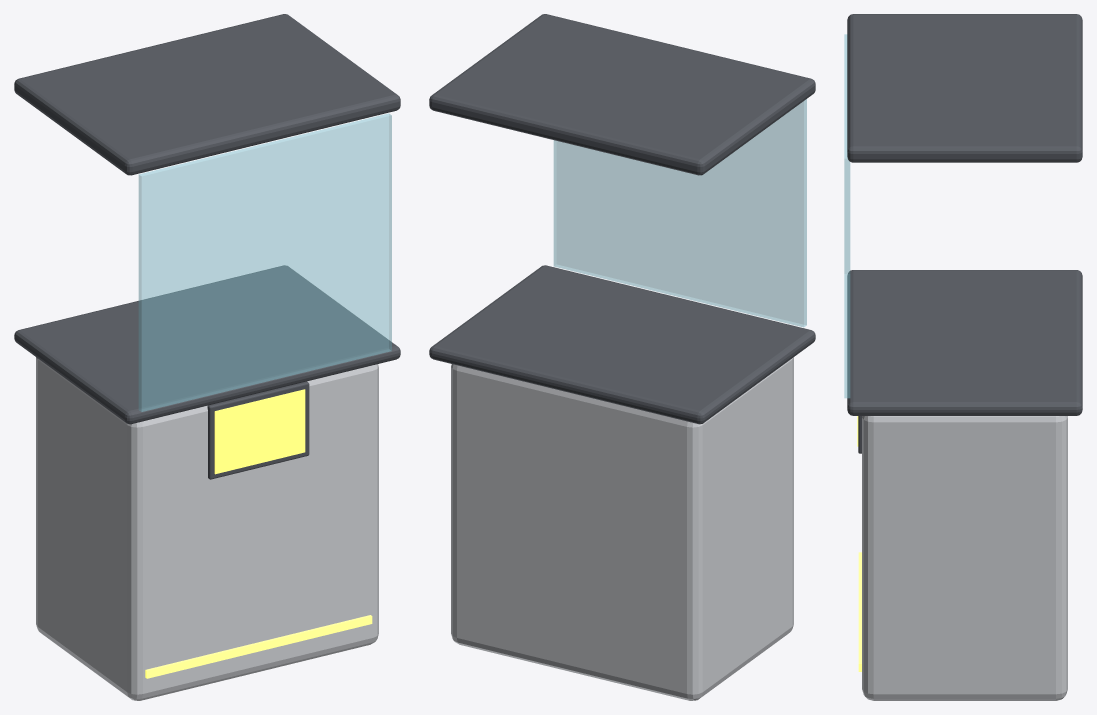
The model's file is terminal_kiosk_ticket_booth.glb.
3 views of the same model, side by side, from view 1: azimuth 30°, elevation 25°; view 2: azimuth 150°, elevation 25°; view 3: azimuth 270°, elevation 25° (orthographic).
Visible parts, largest first — view 1: GD_terminal_kiosk_ticket_booth__m0, GD_terminal_kiosk_ticket_booth__m1, GD_terminal_kiosk_ticket_booth__m2, GD_terminal_kiosk_ticket_booth__m3, GD_terminal_kiosk_ticket_booth__m4; view 2: GD_terminal_kiosk_ticket_booth__m0, GD_terminal_kiosk_ticket_booth__m1, GD_terminal_kiosk_ticket_booth__m2; view 3: GD_terminal_kiosk_ticket_booth__m1, GD_terminal_kiosk_ticket_booth__m0, GD_terminal_kiosk_ticket_booth__m2, GD_terminal_kiosk_ticket_booth__m4.
Boxes of the visible parts, <box> form: GD_terminal_kiosk_ticket_booth__m0: <box>36,357,378,700</box>; GD_terminal_kiosk_ticket_booth__m1: <box>14,14,400,479</box>; GD_terminal_kiosk_ticket_booth__m2: <box>138,113,391,411</box>; GD_terminal_kiosk_ticket_booth__m3: <box>214,389,305,474</box>; GD_terminal_kiosk_ticket_booth__m4: <box>145,615,372,678</box>; GD_terminal_kiosk_ticket_booth__m0: <box>451,357,793,700</box>; GD_terminal_kiosk_ticket_booth__m1: <box>429,14,815,424</box>; GD_terminal_kiosk_ticket_booth__m2: <box>553,99,806,327</box>; GD_terminal_kiosk_ticket_booth__m1: <box>847,14,1082,453</box>; GD_terminal_kiosk_ticket_booth__m0: <box>862,416,1067,700</box>; GD_terminal_kiosk_ticket_booth__m2: <box>844,34,850,398</box>; GD_terminal_kiosk_ticket_booth__m4: <box>858,552,861,671</box>.
Bounding box in the file's own units: 1.1 × 2.11 × 0.81.
